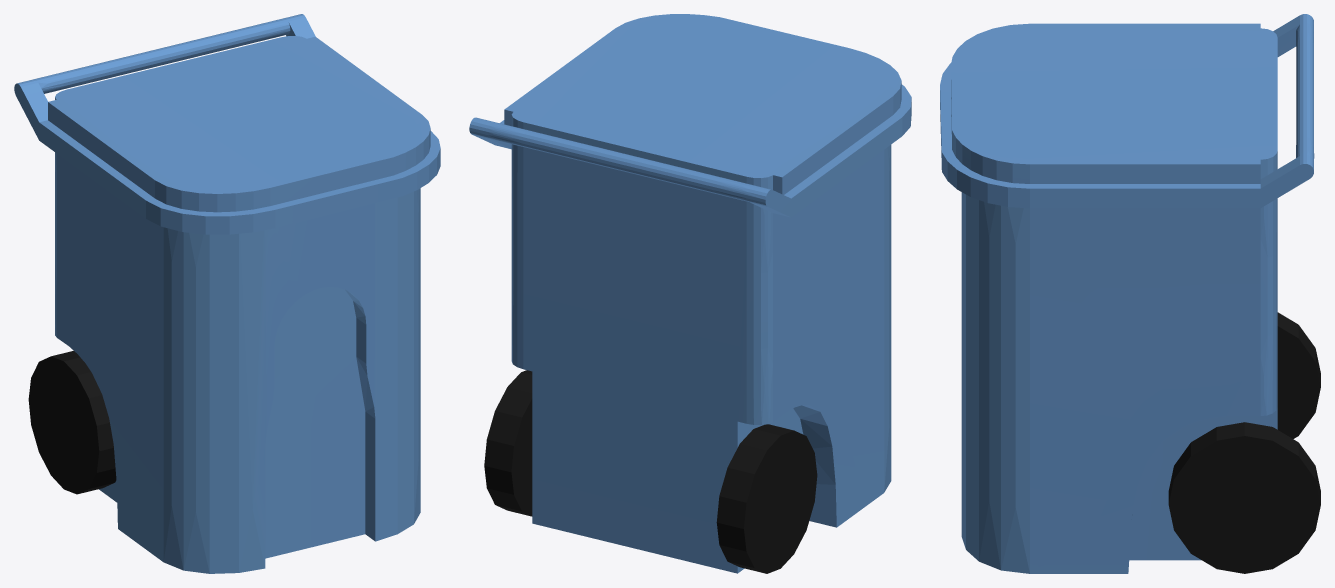
Rendered from bin.glb.
3 views of the same model, side by side, from view 1: azimuth 30°, elevation 25°; view 2: azimuth 150°, elevation 25°; view 3: azimuth 270°, elevation 25° (orthographic). The views are drawn at different scales.
Parts seen in each view (by area): view 1: bin; view 2: bin; view 3: bin.
Part boxes in pixels (x1,y1,x2,y2): bin: (14,14,440,573); bin: (469,14,911,573); bin: (940,14,1320,573).
Size of the model in its own units: 0.8962 by 1.17 by 0.9626.
Materials: 1 (1 with a texture image).
